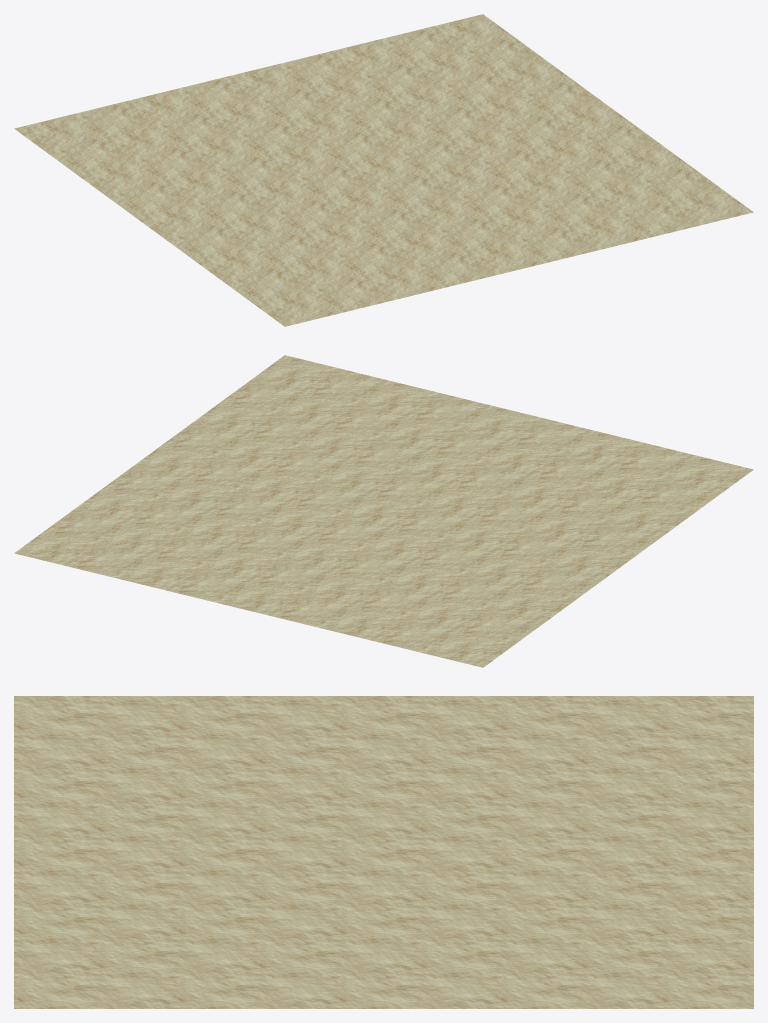
The model's file is Floor.obj.
3 views of the same model, one above another, from view 1: azimuth 30°, elevation 25°; view 2: azimuth 150°, elevation 25°; view 3: azimuth 270°, elevation 25° (orthographic). The views are drawn at different scales.
Parts seen in each view (by area): view 1: nurbsToPoly1; view 2: nurbsToPoly1; view 3: nurbsToPoly1.
Boxes of the visible parts, x1,y1,x2,y2 form: nurbsToPoly1: [14, 14, 753, 326]; nurbsToPoly1: [14, 355, 753, 667]; nurbsToPoly1: [14, 696, 753, 1008].
Bounding box in the file's own units: 27.9 × 0 × 27.9.
